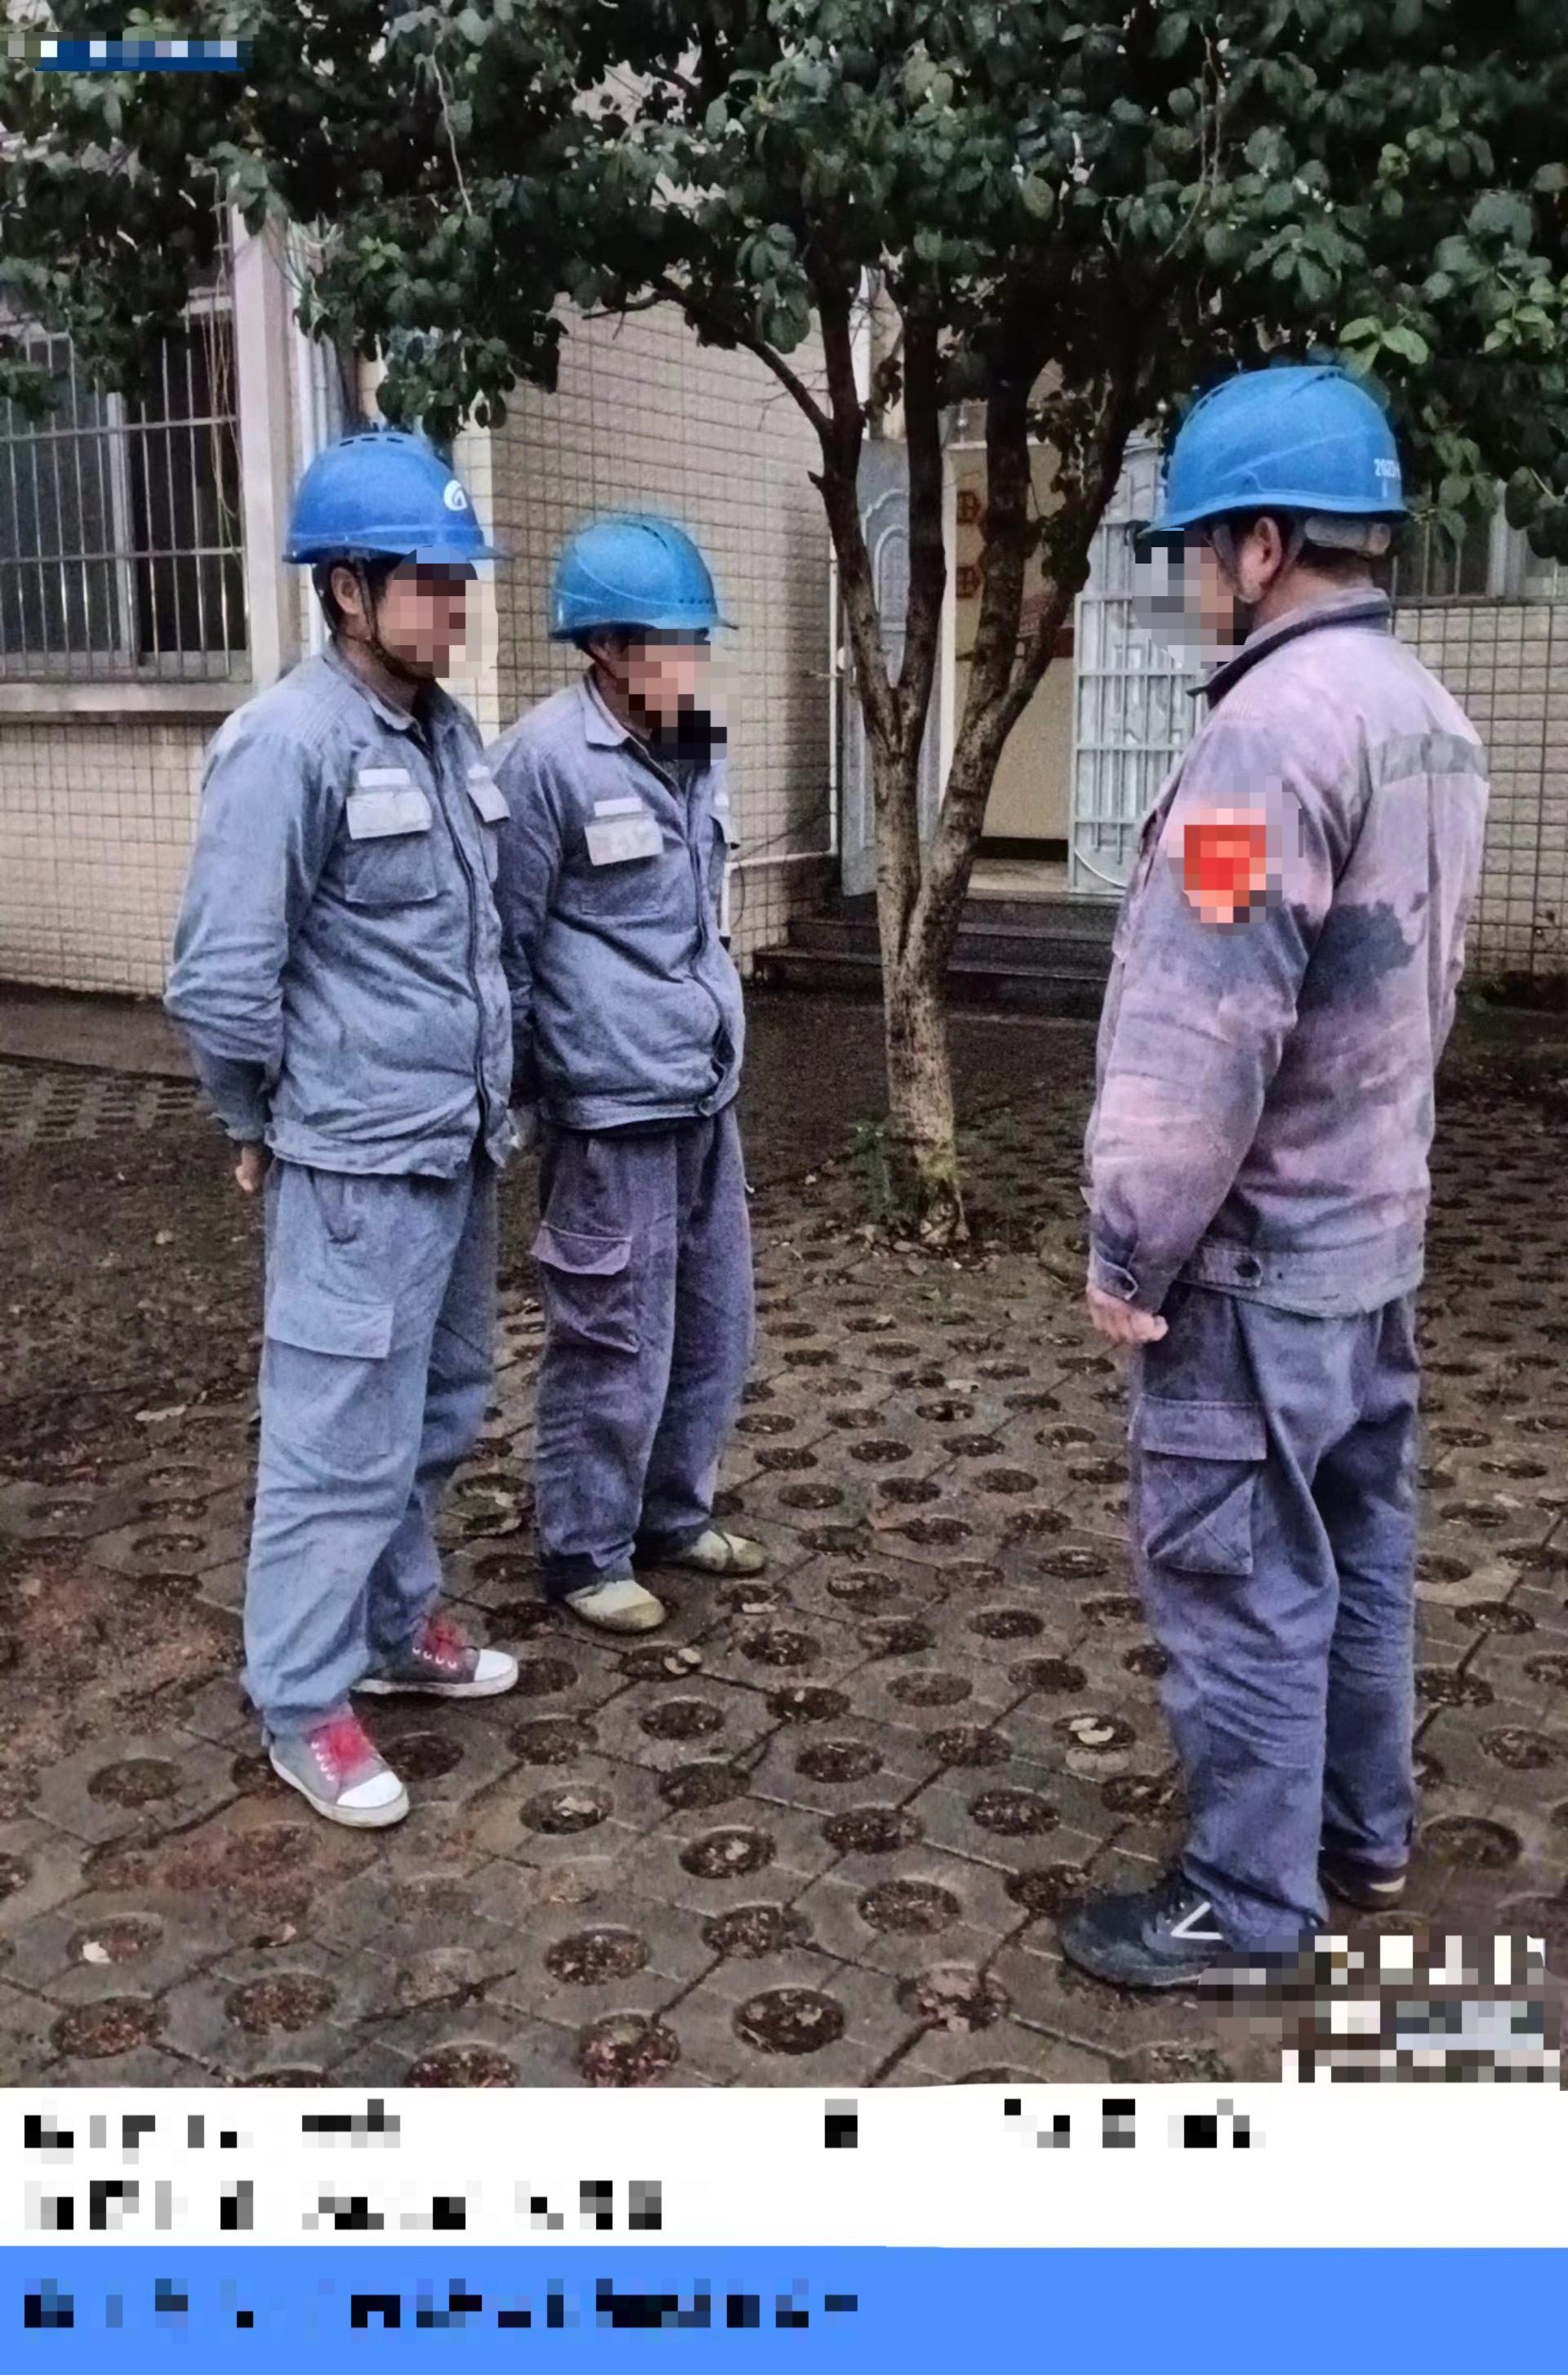halt: (1137, 366, 1417, 635), (282, 434, 493, 683), (548, 516, 723, 718)
inear: (1209, 516, 1300, 613), (313, 558, 392, 649), (577, 625, 642, 700)
